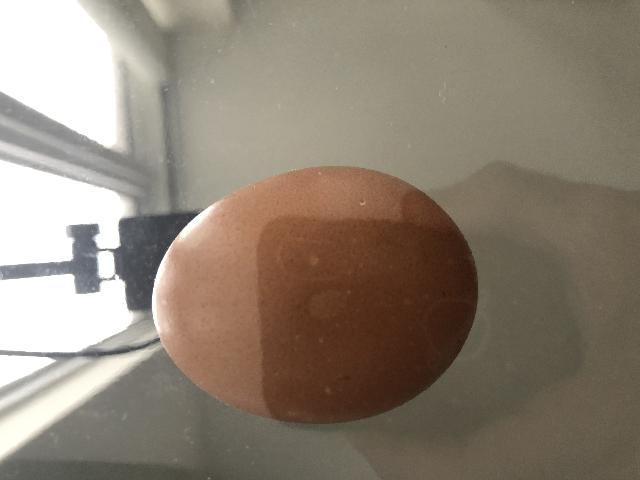Sano: (150, 163, 480, 425)
